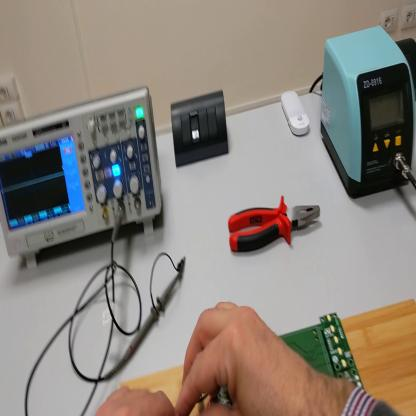hand: (175, 300, 320, 415), (98, 385, 175, 415)
low voltage board: (196, 311, 365, 416)
oscilloscope: (2, 78, 163, 272)
oscilloscope probe tip: (104, 272, 181, 378)
socket: (396, 36, 416, 91)
working area: (124, 296, 416, 416)
